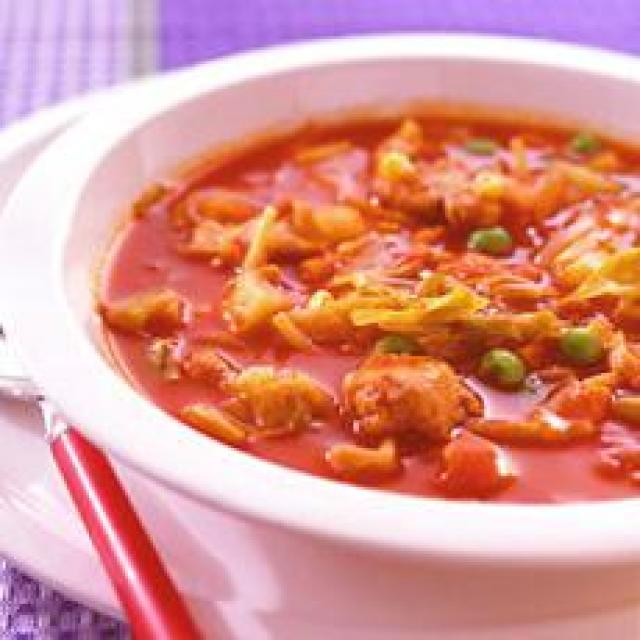汤锅炖物: (0, 14, 640, 559)
